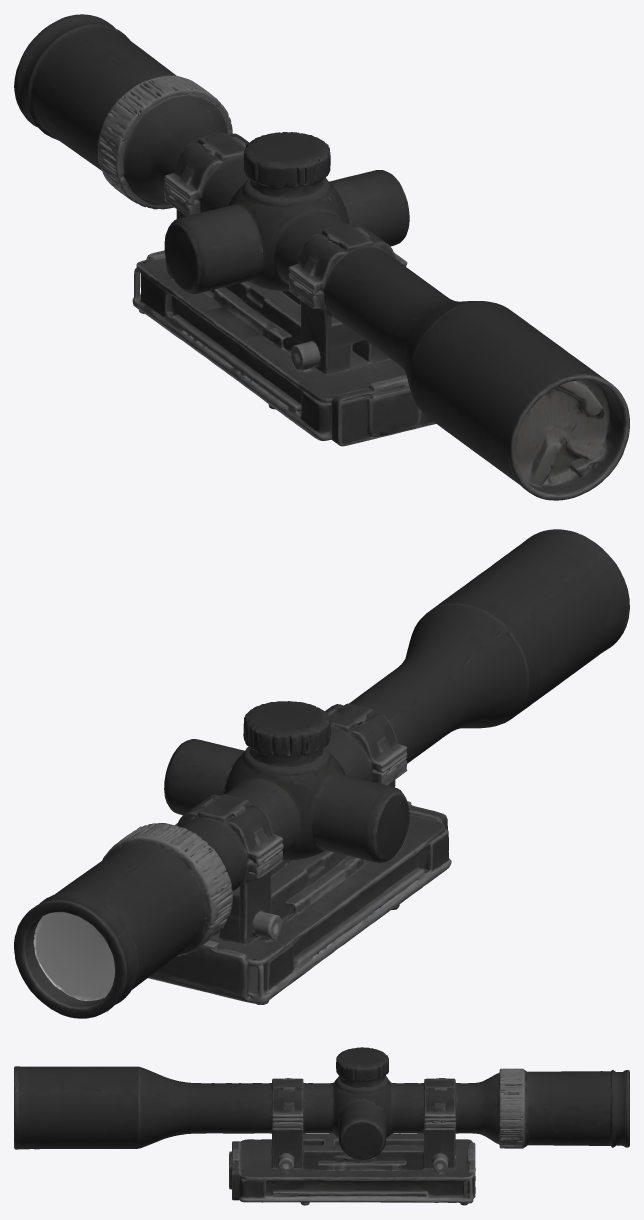
The model's file is scope.glb.
The picture shows the model from 3 angles, top to bottom: view 1: azimuth 30°, elevation 25°; view 2: azimuth 150°, elevation 25°; view 3: azimuth 270°, elevation 25°; orthographic projection. The views are drawn at different scales.
Parts seen in each view (by area): view 1: geometry_0; view 2: geometry_0; view 3: geometry_0.
Part boxes in pixels (left/top/right/bottom): geometry_0: left=14, top=14, right=629, bottom=500; geometry_0: left=14, top=529, right=629, bottom=1018; geometry_0: left=14, top=1047, right=629, bottom=1205.
Bounding box in the file's own units: 0.2439 × 0.2357 × 0.9994.
Materials: 1 (1 with a texture image).
